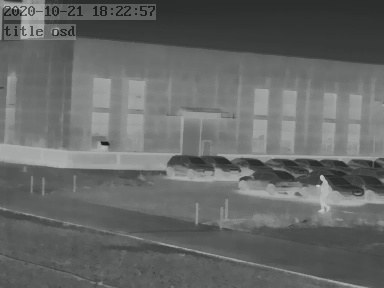person: (315, 174, 332, 213)
vehicle: (308, 171, 363, 207), (237, 168, 305, 194), (165, 153, 213, 179), (351, 173, 384, 205), (204, 153, 243, 177), (232, 155, 271, 172), (261, 156, 300, 171), (346, 156, 378, 170), (319, 157, 349, 171), (296, 157, 326, 170)
